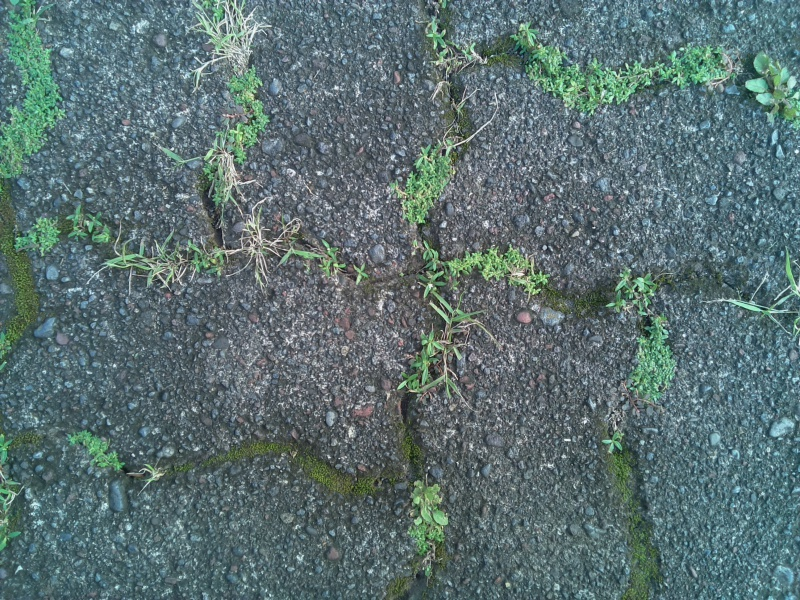Weed: (504, 23, 740, 123), (1, 10, 77, 178), (429, 244, 557, 301), (386, 140, 462, 230), (185, 4, 270, 77), (221, 65, 280, 163), (622, 315, 681, 404), (744, 46, 800, 138), (119, 239, 200, 291), (59, 420, 123, 483), (400, 472, 453, 547), (198, 135, 251, 203), (224, 211, 283, 272), (426, 47, 487, 105), (393, 331, 445, 397), (605, 265, 667, 319), (9, 206, 61, 261), (64, 206, 111, 250), (307, 234, 344, 278), (130, 458, 171, 496), (594, 422, 632, 460), (423, 20, 454, 57), (348, 261, 369, 292)
